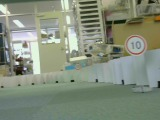speed_10: (124, 33, 148, 56)
